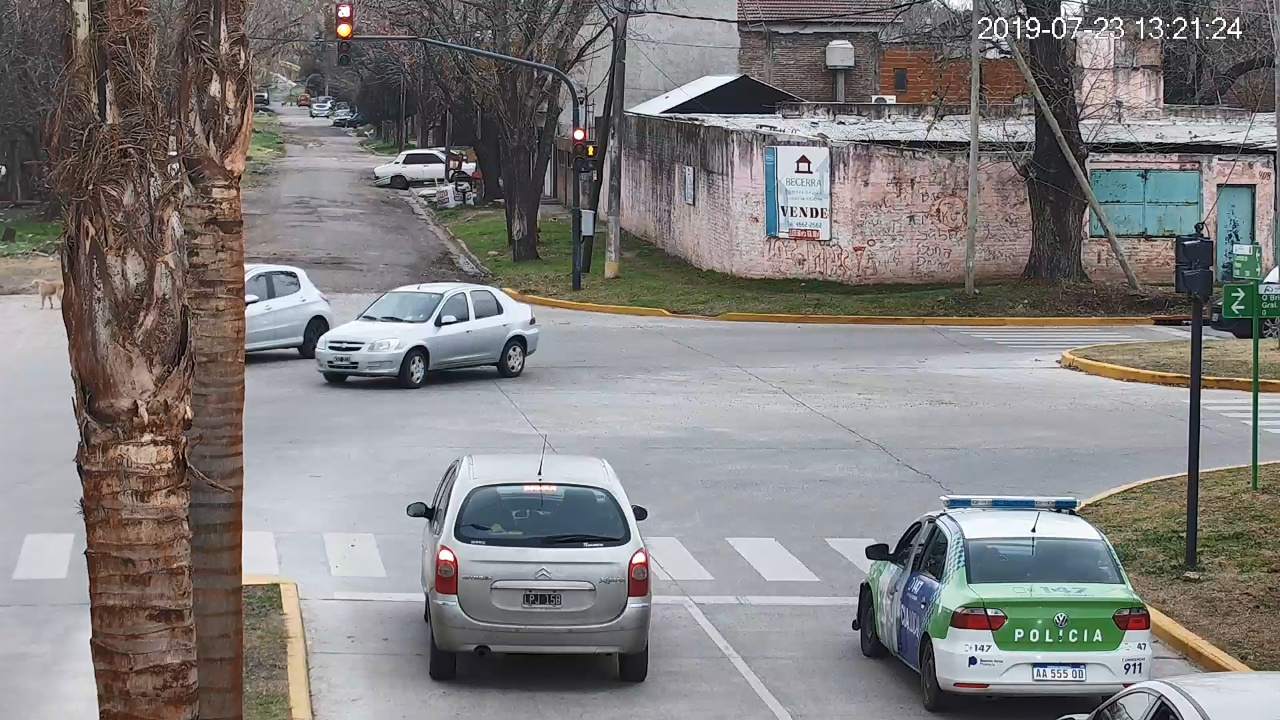car: (406, 454, 652, 681)
police car: (852, 496, 1153, 712)
traffic light: (336, 22, 353, 65), (572, 128, 586, 168)
